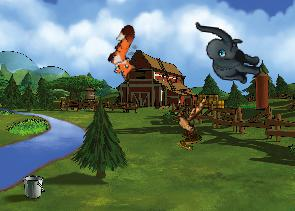eagle: (170, 93, 209, 142)
elephant: (189, 21, 265, 85)
fox: (100, 22, 154, 84)
